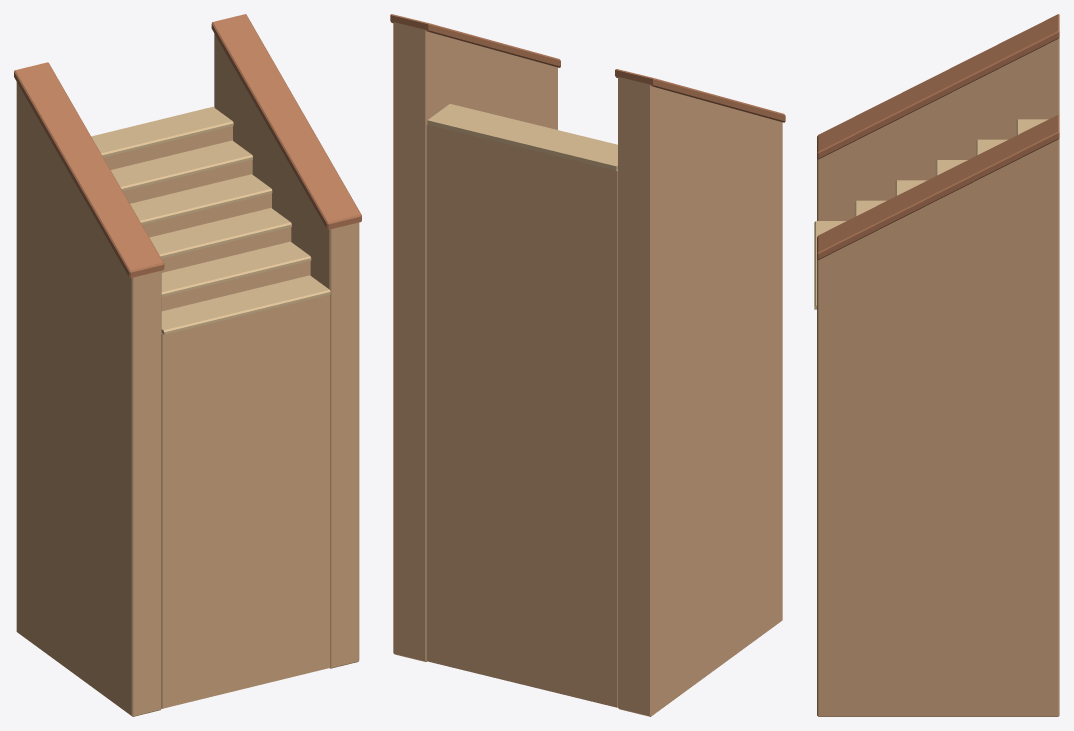
File: terrace_stairs_flight_narrow.fbx
3 renders of one model, left to right at view 1: azimuth 30°, elevation 25°; view 2: azimuth 150°, elevation 25°; view 3: azimuth 270°, elevation 25°, orthographic. The views are drawn at different scales.
Parts seen in each view (by area): view 1: Terrace_Stairs_Flight_Narrow; view 2: Terrace_Stairs_Flight_Narrow; view 3: Terrace_Stairs_Flight_Narrow.
Boxes of the visible parts, <box> form: Terrace_Stairs_Flight_Narrow: <box>14,14,361,716</box>; Terrace_Stairs_Flight_Narrow: <box>390,14,785,716</box>; Terrace_Stairs_Flight_Narrow: <box>814,14,1059,716</box>.
Size of the model in its own units: 312 by 721 by 273.
